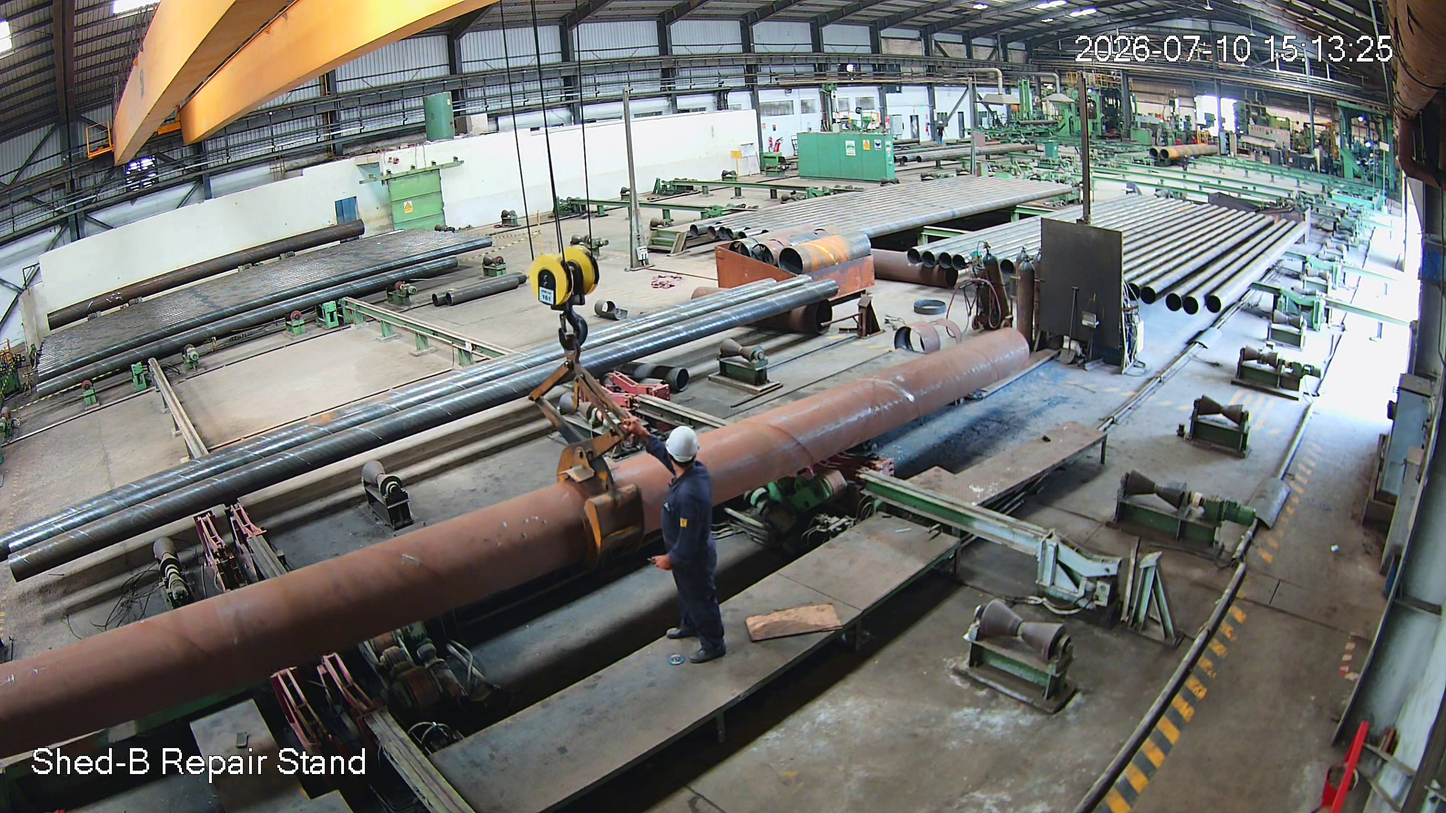Helmet: (656, 414, 717, 471)
Person: (654, 419, 710, 671)
